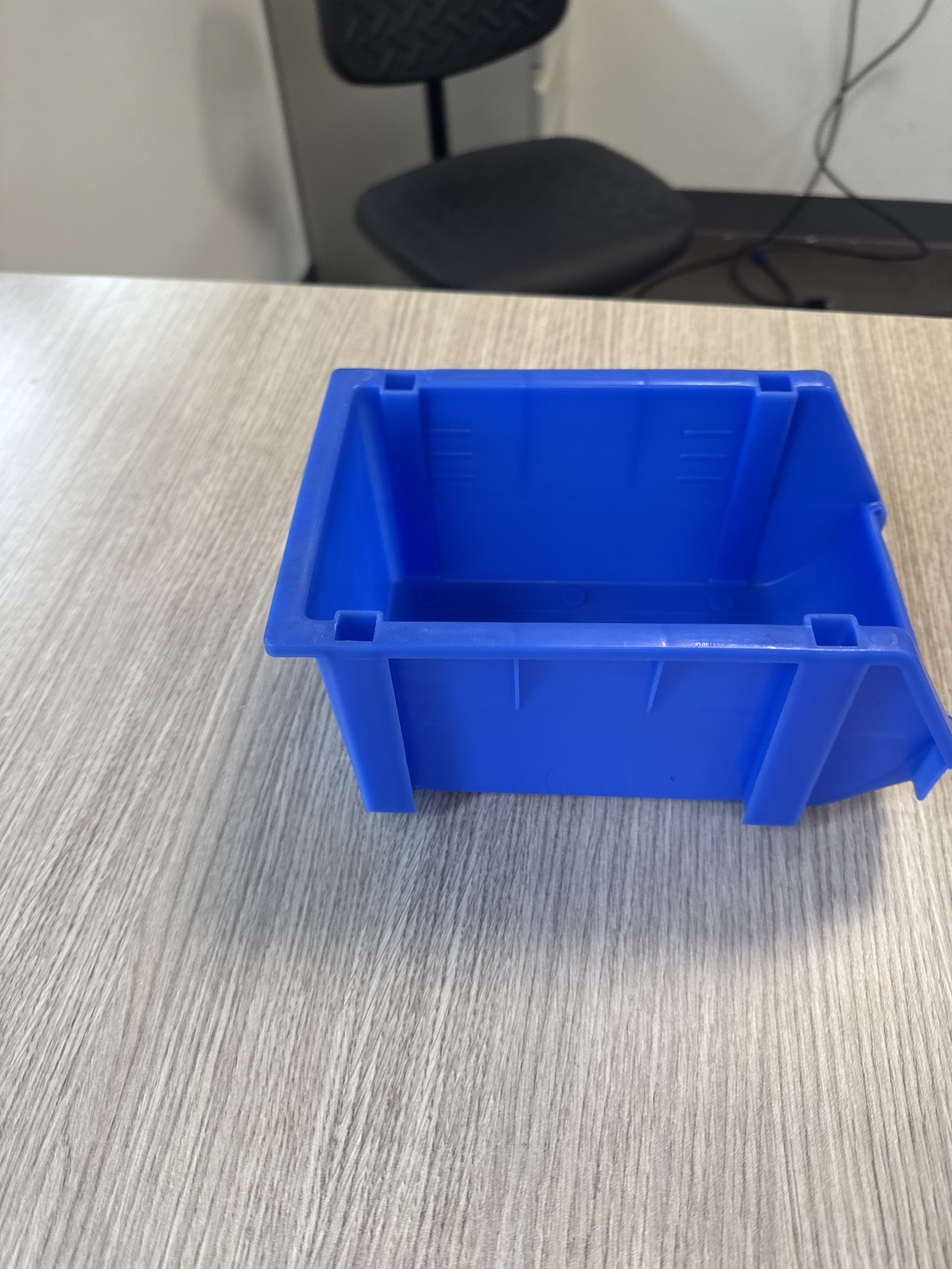Bin Boundary: (299, 339, 949, 675)
